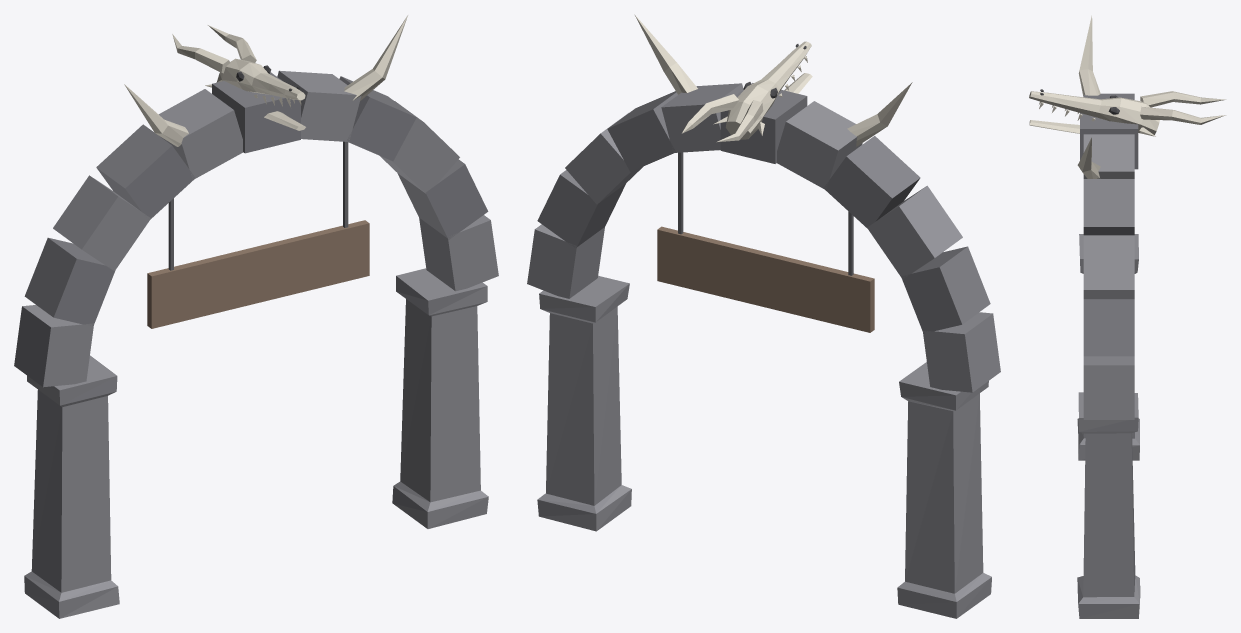
File: Gate_EggRoad.glb
3 views of the same model, side by side, from view 1: azimuth 30°, elevation 25°; view 2: azimuth 150°, elevation 25°; view 3: azimuth 270°, elevation 25° (orthographic). The views are drawn at different scales.
Parts seen in each view (by area): view 1: Stone, StoneDark, Sign, Bones, Iron; view 2: Stone, StoneDark, Sign, Bones, Iron; view 3: Stone, StoneDark, Bones.
Boxes of the visible parts, <box> form: Stone: <box>14,70,498,618</box>; StoneDark: <box>24,72,488,326</box>; Sign: <box>147,220,369,328</box>; Bones: <box>124,15,407,146</box>; Iron: <box>168,141,348,270</box>; Stone: <box>527,83,1000,618</box>; StoneDark: <box>537,83,990,333</box>; Sign: <box>657,226,874,332</box>; Bones: <box>634,14,912,146</box>; Iron: <box>678,152,853,275</box>; Stone: <box>1077,94,1140,618</box>; StoneDark: <box>1080,93,1138,356</box>; Bones: <box>1029,15,1225,178</box>.
Bounding box in the file's own units: 27.2 × 29.2 × 11.59.
